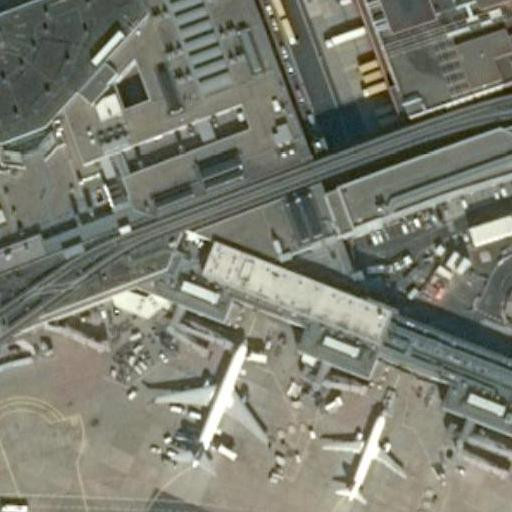Aircraft: (153, 328, 271, 475), (150, 333, 269, 471), (314, 401, 407, 509), (317, 402, 406, 506)
